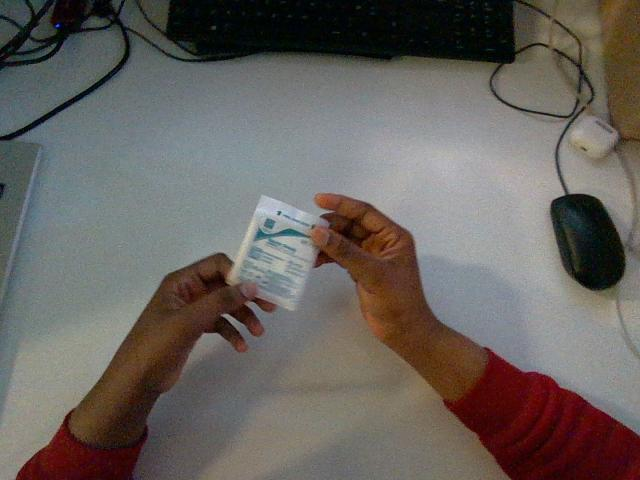gauze: (227, 196, 328, 309)
